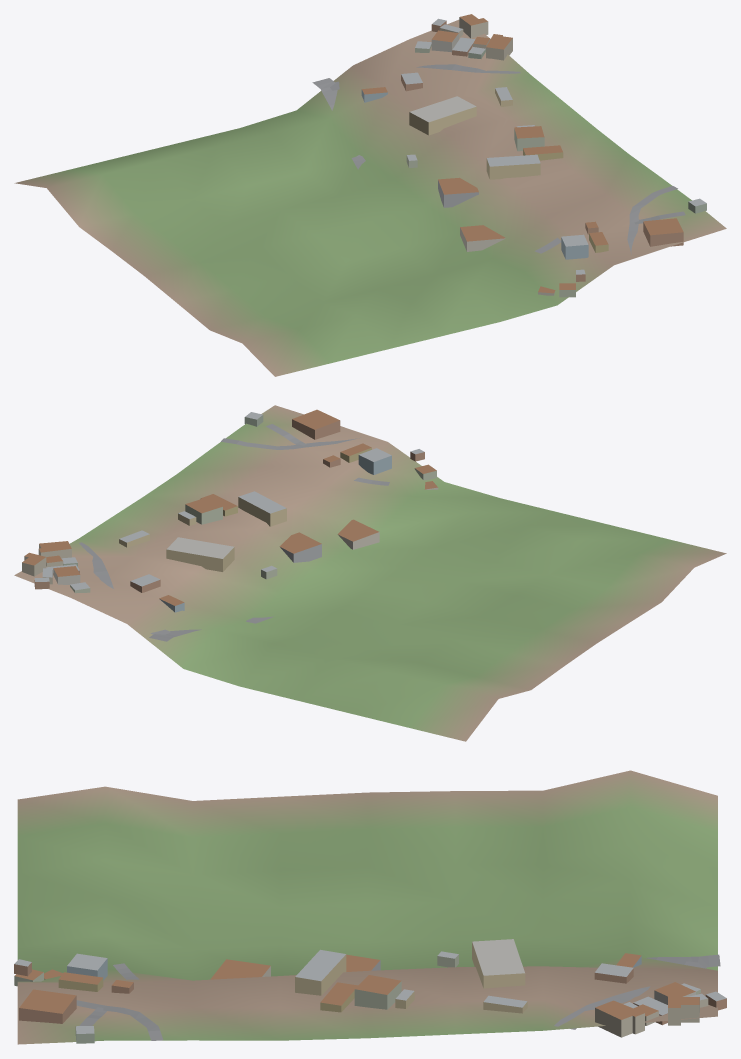
3 views of the same model, one above another, from view 1: azimuth 30°, elevation 25°; view 2: azimuth 150°, elevation 25°; view 3: azimuth 270°, elevation 25° (orthographic). The views are drawn at different scales.
Parts seen in each view (by area): view 1: Lo; view 2: Lo; view 3: Lo.
Part boxes in pixels (bbox=[...]): Lo: bbox=[14, 14, 726, 376]; Lo: bbox=[14, 405, 726, 741]; Lo: bbox=[14, 770, 726, 1044].
Size of the model in its own units: 262 by 36.82 by 261.
